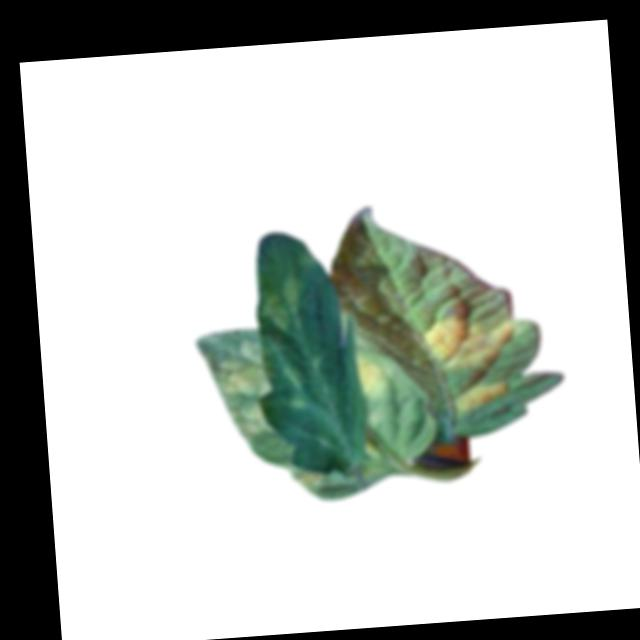Leaf_Mold: (202, 337, 276, 447), (422, 312, 520, 375), (259, 267, 309, 333), (452, 378, 513, 417), (352, 352, 395, 397), (294, 464, 329, 495)
